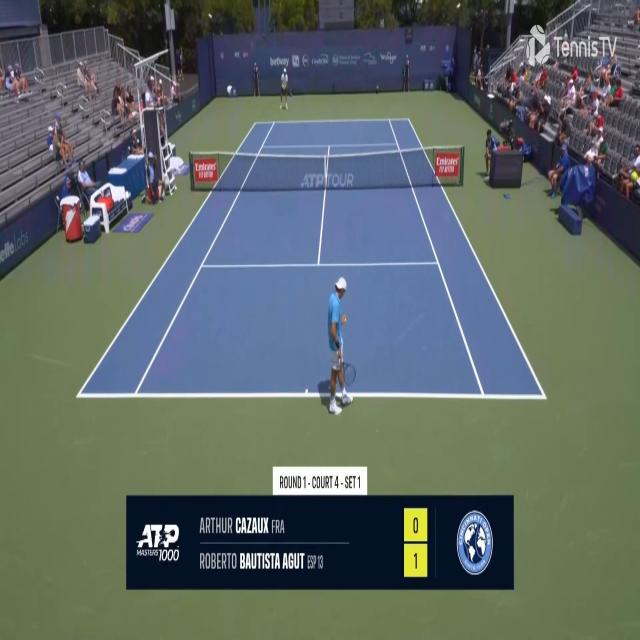tennis-player: (322, 275, 356, 419), (279, 66, 291, 110)
